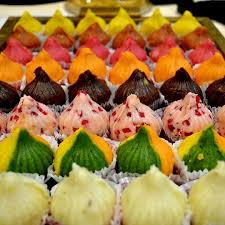modak: (7, 12, 220, 107), (7, 128, 218, 172), (1, 97, 219, 138)
